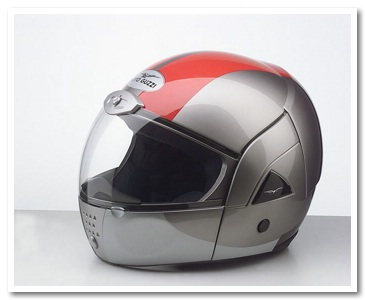helmet: (94, 56, 311, 252)
